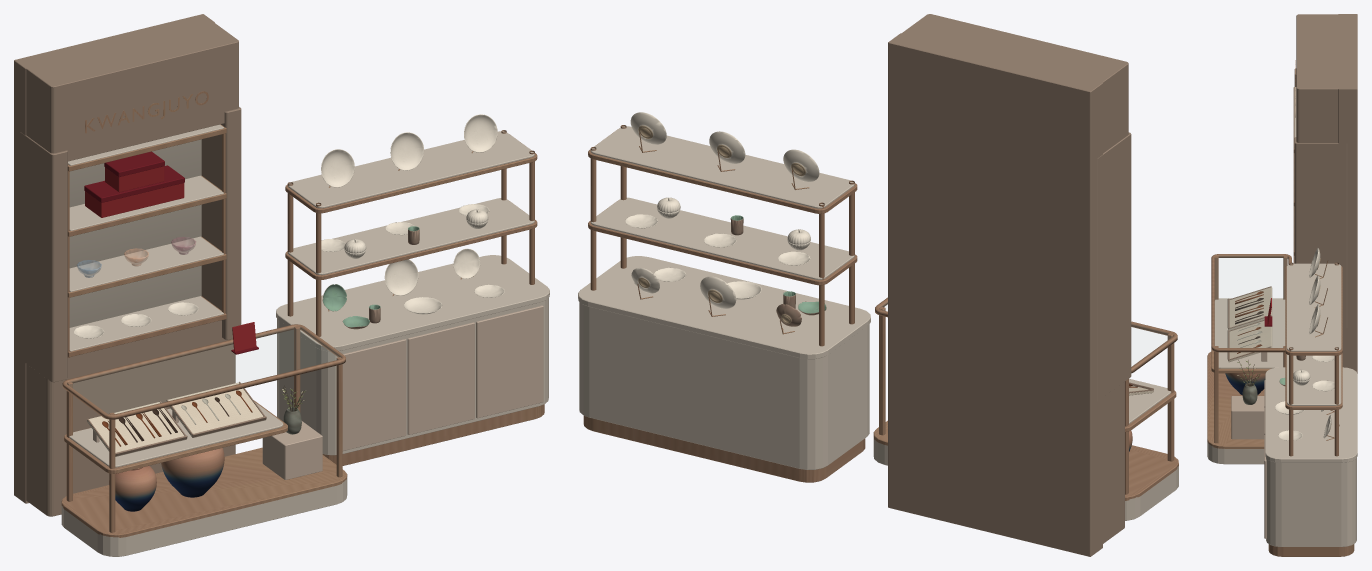
Rendered from showroom.glb.
3 renders of one model, left to right at view 1: azimuth 30°, elevation 25°; view 2: azimuth 150°, elevation 25°; view 3: azimuth 270°, elevation 25°, orthographic. The views are drawn at different scales.
Parts seen in each view (by area): view 1: KwangjuyoFixture, KwangjuyoGlaze, KwangjuyoBronze; view 2: KwangjuyoFixture, KwangjuyoGlaze; view 3: KwangjuyoFixture, KwangjuyoGlaze.
Part boxes in pixels (x1,y1,x2,y2): KwangjuyoFixture: (14, 14, 549, 556); KwangjuyoGlaze: (61, 91, 544, 537); KwangjuyoBronze: (77, 237, 195, 277); KwangjuyoFixture: (578, 14, 1178, 556); KwangjuyoGlaze: (583, 112, 1178, 500); KwangjuyoFixture: (1207, 14, 1357, 546); KwangjuyoGlaze: (1207, 60, 1354, 556).
Bounding box in the file's own units: 3.51 × 3 × 1.16.
3 materials, 1 textured.
